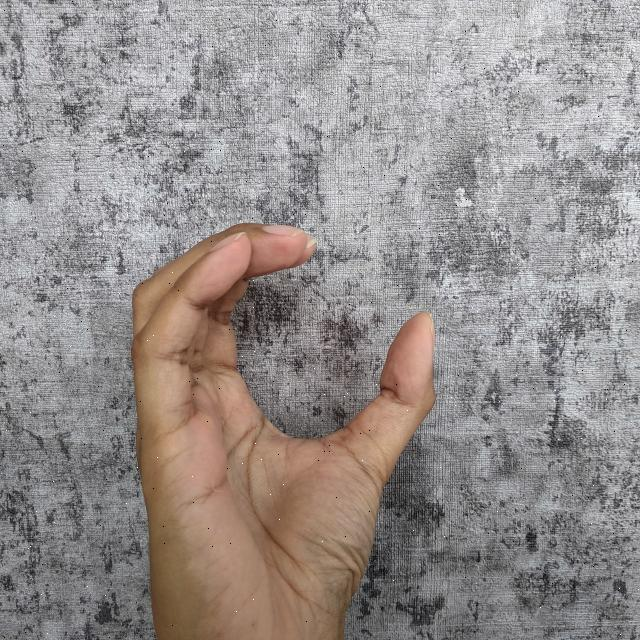C: (131, 217, 440, 640)
